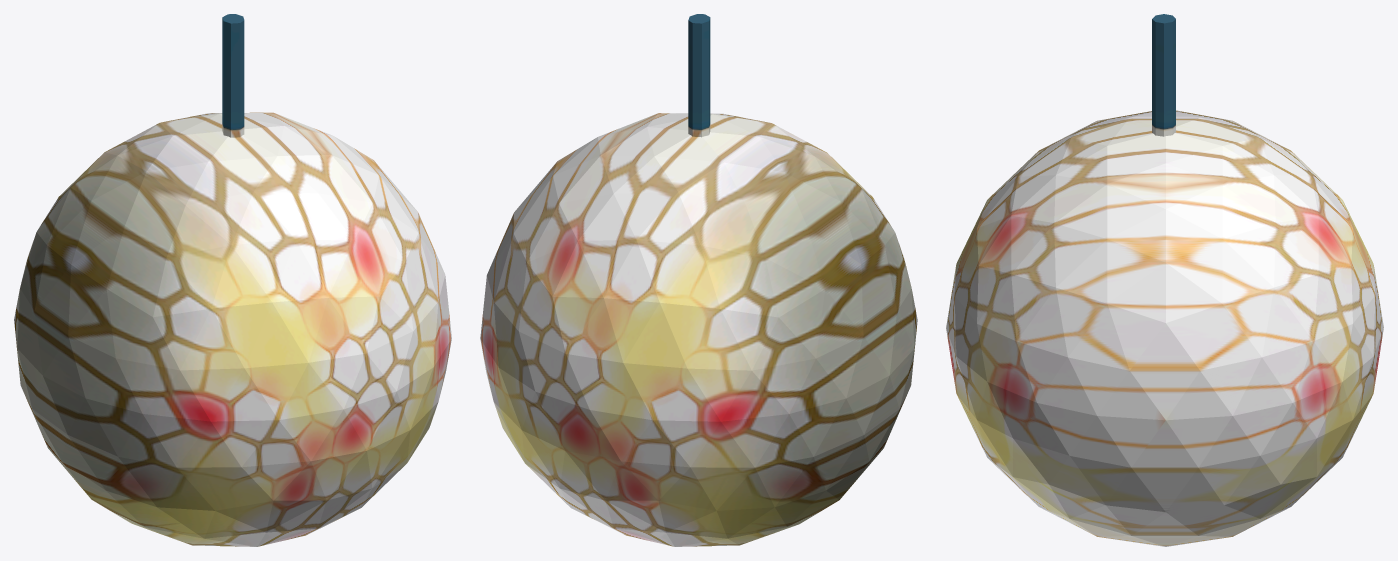
File: Disco.glb
The picture shows the model from 3 angles, left to right: view 1: azimuth 30°, elevation 25°; view 2: azimuth 150°, elevation 25°; view 3: azimuth 270°, elevation 25°; orthographic projection.
Parts seen in each view (by area): view 1: Disco; view 2: Disco; view 3: Disco.
Part boxes in pixels (box(x1,y1,x2,y2)): Disco: box(14, 14, 451, 546); Disco: box(480, 14, 917, 546); Disco: box(946, 14, 1383, 546).
Size of the model in its own units: 147 by 188 by 147.
Materials: 1 (1 with a texture image).
